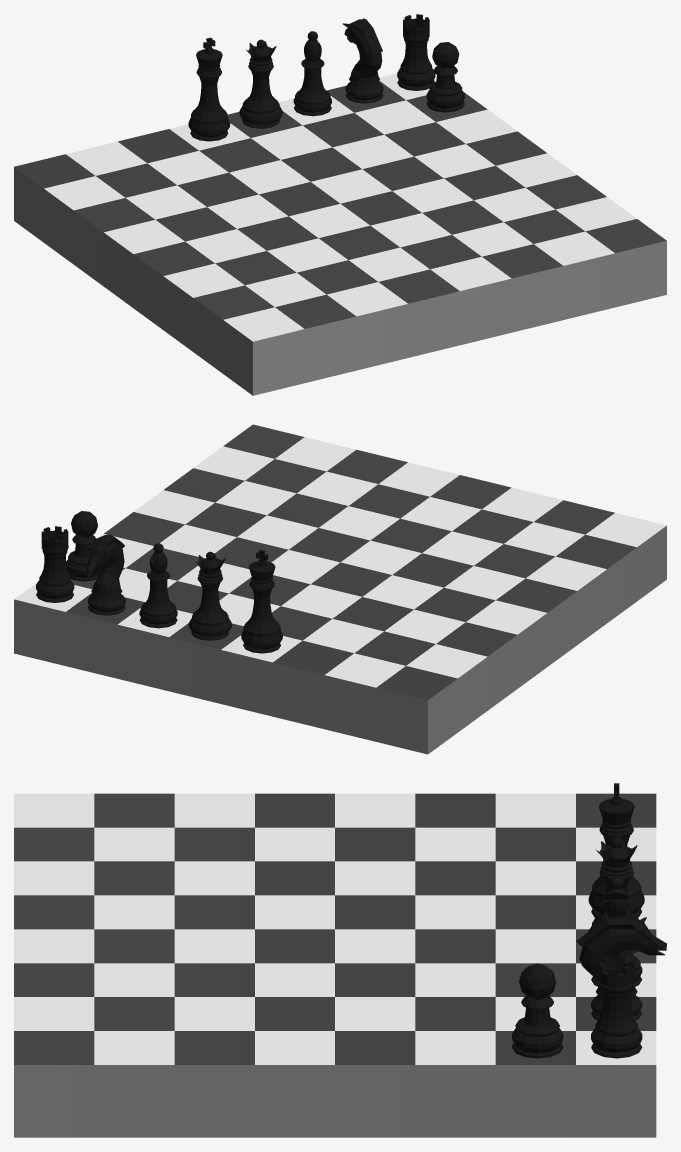
The model's file is chess.fbx.
The picture shows the model from 3 angles, top to bottom: view 1: azimuth 30°, elevation 25°; view 2: azimuth 150°, elevation 25°; view 3: azimuth 270°, elevation 25°; orthographic projection. The views are drawn at different scales.
Visible parts, largest first — view 1: Board.001, King.001, Horse.002, Queen.001, Tower.002, Bishop.002, Pawn.011; view 2: Board.001, King.001, Horse.002, Queen.001, Tower.002, Bishop.002, Pawn.011; view 3: Board.001, Tower.002, Horse.002, Pawn.011, King.001, Queen.001, Bishop.002.
Boxes of the visible parts, bbox=[...] form: Board.001: bbox=[14, 73, 666, 395]; King.001: bbox=[188, 37, 230, 141]; Horse.002: bbox=[343, 18, 383, 103]; Queen.001: bbox=[239, 39, 282, 128]; Tower.002: bbox=[397, 14, 435, 90]; Bishop.002: bbox=[293, 31, 331, 116]; Pawn.011: bbox=[426, 42, 464, 112]; Board.001: bbox=[14, 424, 666, 754]; King.001: bbox=[241, 549, 282, 653]; Horse.002: bbox=[85, 534, 125, 615]; Queen.001: bbox=[188, 551, 231, 640]; Tower.002: bbox=[36, 526, 74, 602]; Bishop.002: bbox=[139, 543, 177, 628]; Pawn.011: bbox=[66, 511, 101, 581]; Board.001: bbox=[14, 793, 656, 1137]; Tower.002: bbox=[591, 955, 642, 1058]; Horse.002: bbox=[576, 914, 666, 1020]; Pawn.011: bbox=[512, 963, 563, 1058]; King.001: bbox=[588, 783, 644, 917]; Queen.001: bbox=[588, 836, 639, 953]; Bishop.002: bbox=[591, 876, 642, 986].
Bounding box in the file's own units: 4 × 4.07 × 1.37.
